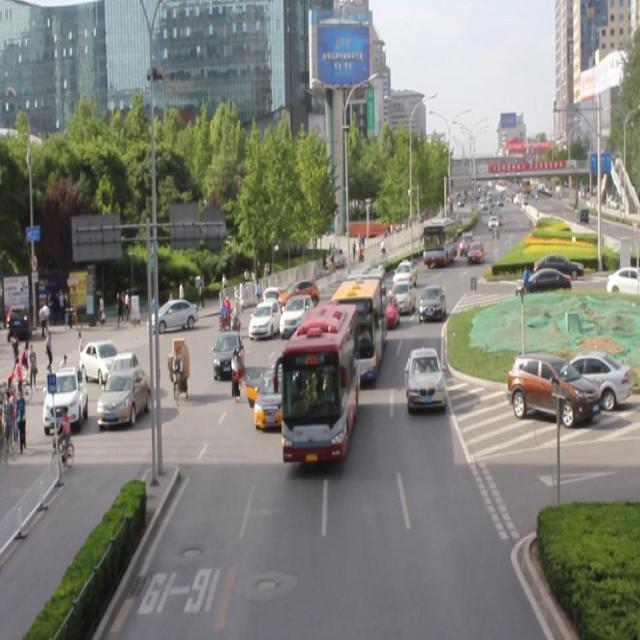car: (252, 362, 294, 427), (405, 347, 444, 408), (213, 328, 244, 378), (279, 292, 313, 336), (249, 297, 281, 338), (278, 280, 320, 310), (418, 282, 445, 322), (372, 287, 398, 326), (387, 279, 413, 314), (392, 259, 416, 289)
van: (282, 303, 356, 459), (330, 267, 384, 383)
